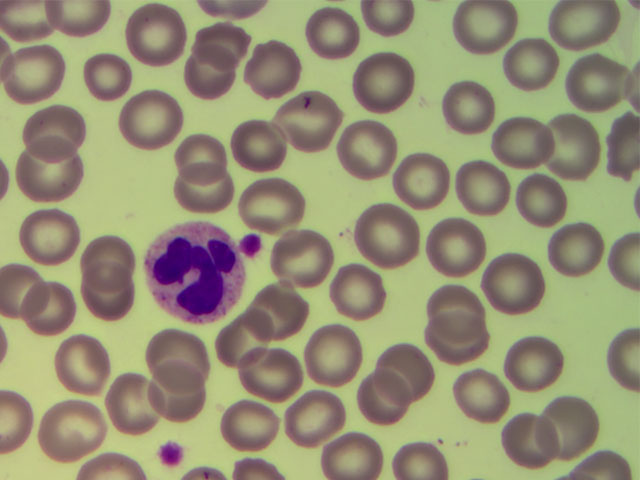Platelets: (158, 442, 182, 466), (242, 234, 262, 257)
RBC: (354, 206, 419, 268), (300, 323, 361, 388), (540, 115, 601, 180), (16, 141, 84, 198), (565, 53, 626, 111), (506, 333, 565, 392), (378, 341, 435, 402), (19, 209, 81, 264), (483, 254, 545, 309), (423, 217, 485, 272), (451, 159, 513, 214), (388, 152, 450, 207), (352, 52, 414, 107), (338, 121, 400, 176), (241, 42, 303, 97), (275, 91, 337, 146), (228, 117, 290, 172), (124, 8, 186, 63), (245, 281, 307, 336), (241, 343, 303, 398), (284, 387, 346, 442), (145, 364, 207, 419), (104, 375, 166, 430), (56, 336, 118, 391), (147, 329, 209, 384), (269, 228, 331, 283), (241, 173, 303, 228), (22, 105, 84, 160), (171, 158, 233, 213), (120, 91, 182, 146), (15, 278, 77, 333), (42, 402, 104, 457), (491, 115, 553, 170), (537, 399, 599, 454), (454, 1, 516, 55), (547, 1, 618, 48), (453, 366, 511, 423), (1, 46, 61, 101), (77, 234, 135, 290), (501, 413, 560, 467), (426, 312, 487, 363), (81, 265, 137, 320), (219, 399, 278, 451), (329, 265, 384, 320), (220, 311, 272, 369), (545, 224, 602, 276), (504, 37, 558, 90), (323, 430, 379, 480), (1, 262, 50, 319), (185, 45, 237, 98), (443, 81, 498, 131), (362, 366, 410, 423), (190, 20, 247, 67), (515, 175, 566, 226), (308, 5, 357, 58), (172, 133, 225, 182), (429, 278, 480, 326), (390, 438, 448, 480), (1, 387, 35, 457), (605, 114, 640, 179), (84, 54, 132, 101), (48, 1, 115, 34), (605, 232, 640, 291), (605, 330, 640, 389), (1, 1, 55, 39), (568, 448, 630, 480), (80, 452, 148, 480), (359, 1, 413, 34), (231, 455, 284, 480), (193, 1, 265, 17), (178, 466, 232, 480)
WBC: (143, 222, 240, 325)
